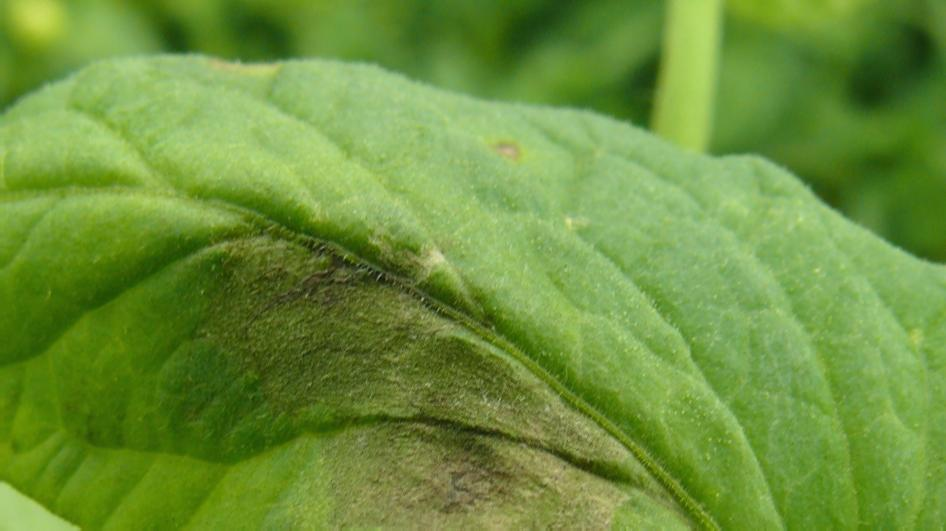Tomato leaf late blight: (0, 41, 946, 531)
